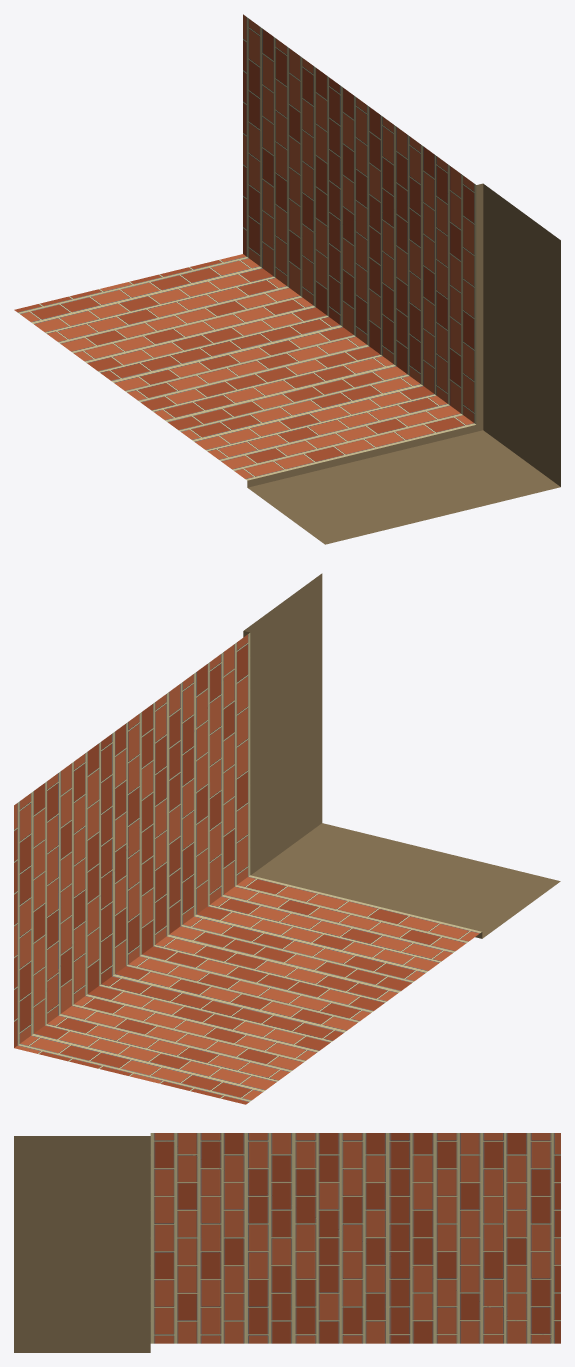
Rendered from corner01.fbx.
3 views of the same model, one above another, from view 1: azimuth 30°, elevation 25°; view 2: azimuth 150°, elevation 25°; view 3: azimuth 270°, elevation 25° (orthographic). The views are drawn at different scales.
Visible parts, largest first — view 1: Cube; view 2: Cube; view 3: Cube.
Part boxes in pixels (x1,y1,x2,y2): Cube: (14,14,560,544); Cube: (14,573,560,1104); Cube: (14,1133,560,1352).
Bounding box in the file's own units: 175 × 175 × 400.
